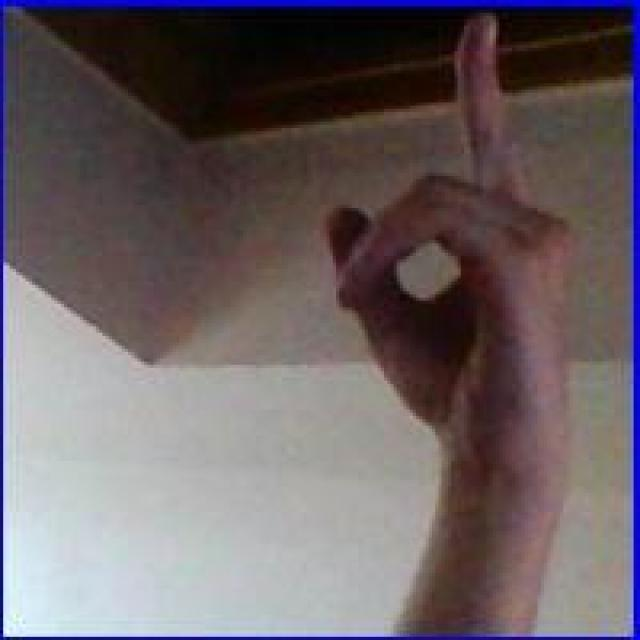D: (324, 9, 578, 506)
